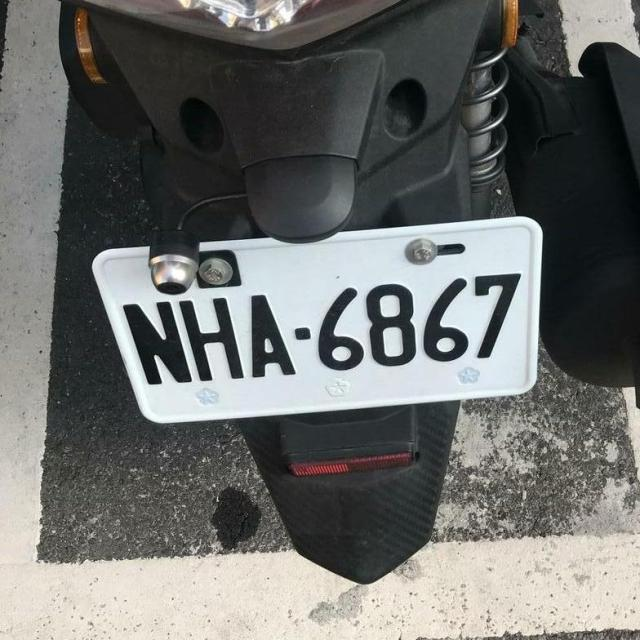W: (87, 211, 550, 431)
